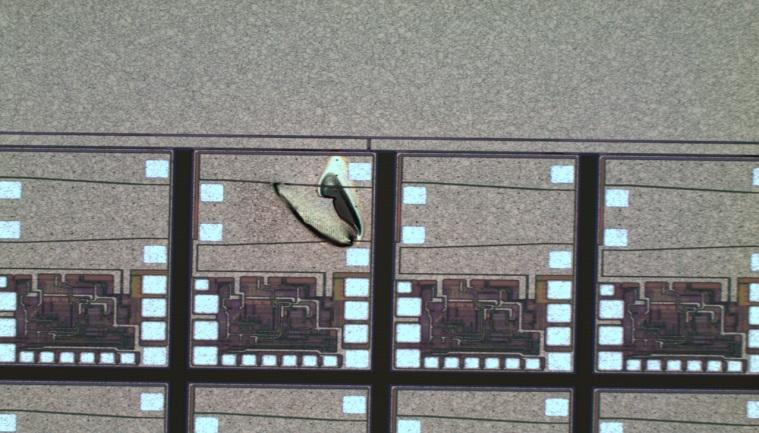BLOCK ETCH: (262, 151, 374, 260)
